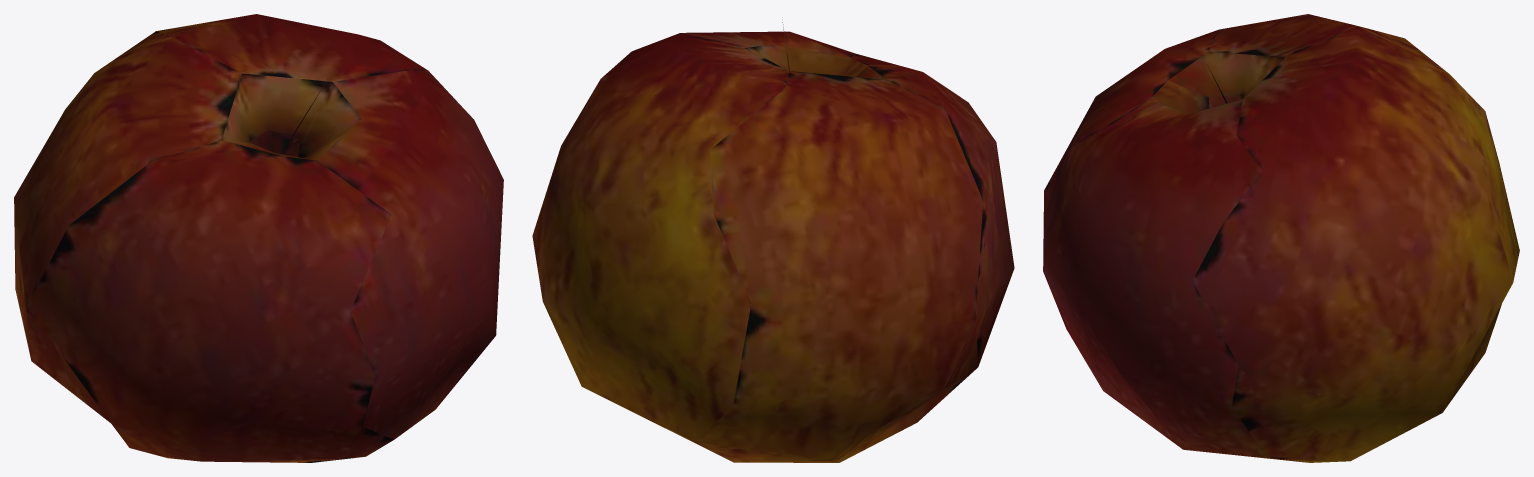
The model's file is apple.glb.
3 views of the same model, side by side, from view 1: azimuth 30°, elevation 25°; view 2: azimuth 150°, elevation 25°; view 3: azimuth 270°, elevation 25° (orthographic). The views are drawn at different scales.
Visible parts, largest first — view 1: apple; view 2: apple; view 3: apple.
Part boxes in pixels (x1,y1,x2,y2): apple: (14, 14, 503, 462); apple: (532, 22, 1014, 462); apple: (1043, 14, 1519, 462).
Size of the model in its own units: 0.0964 by 0.0819 by 0.0939.
1 material, 1 textured.
